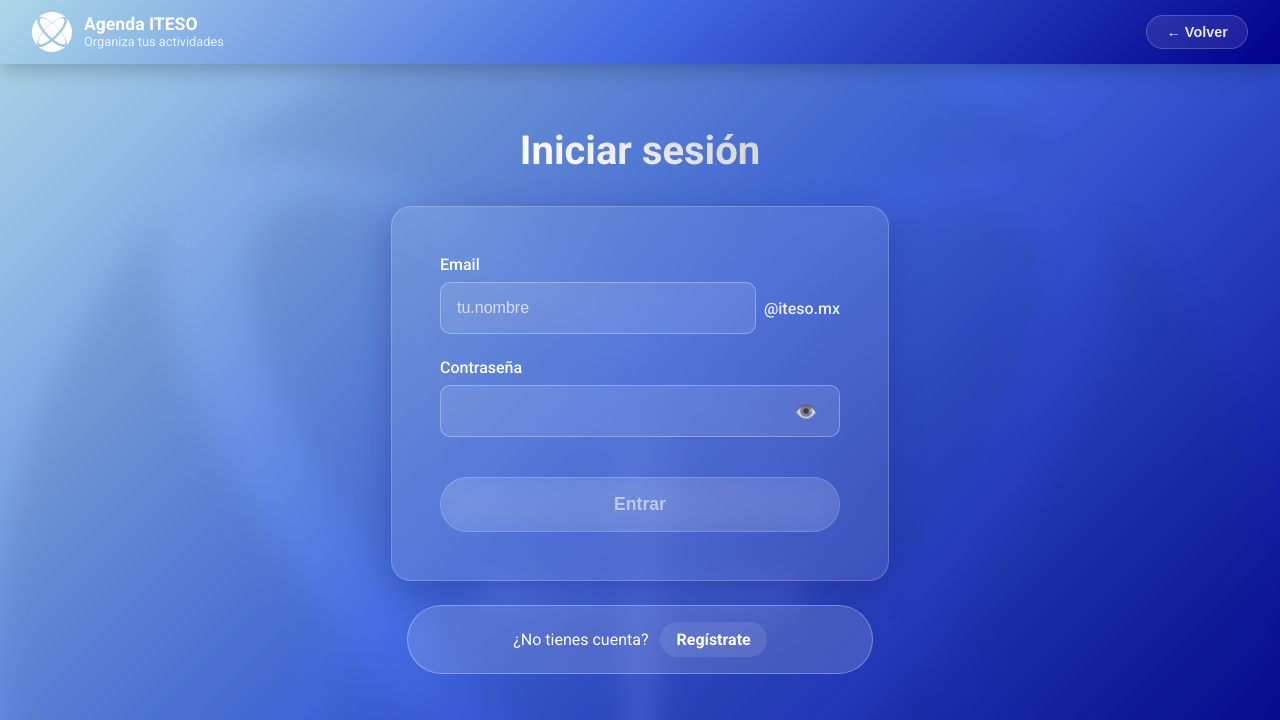
Login Component E2E Tests › debería validar campos requeridos al intentar enviar formulario vacío
Focus the field named "emailPrefix" at coordinates (598, 308), box x1=440 y1=282 x2=756 y2=334
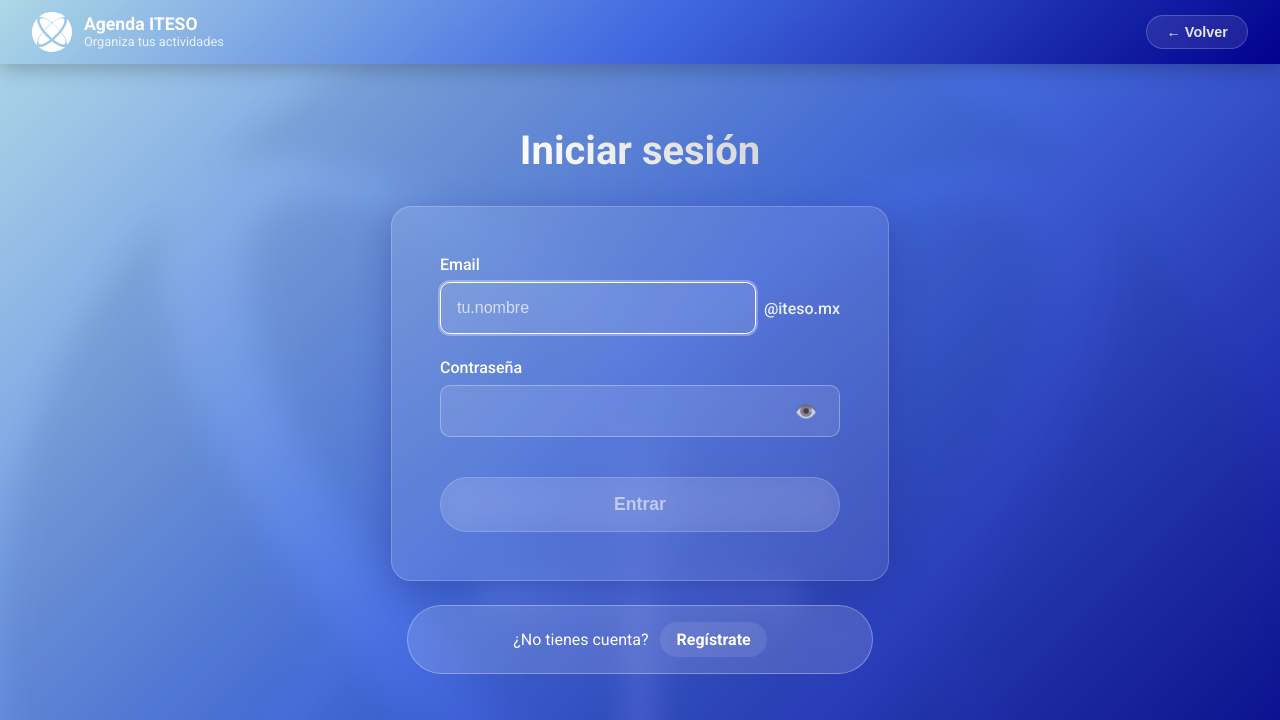
Leave the field named "emailPrefix", box x1=440 y1=282 x2=756 y2=334
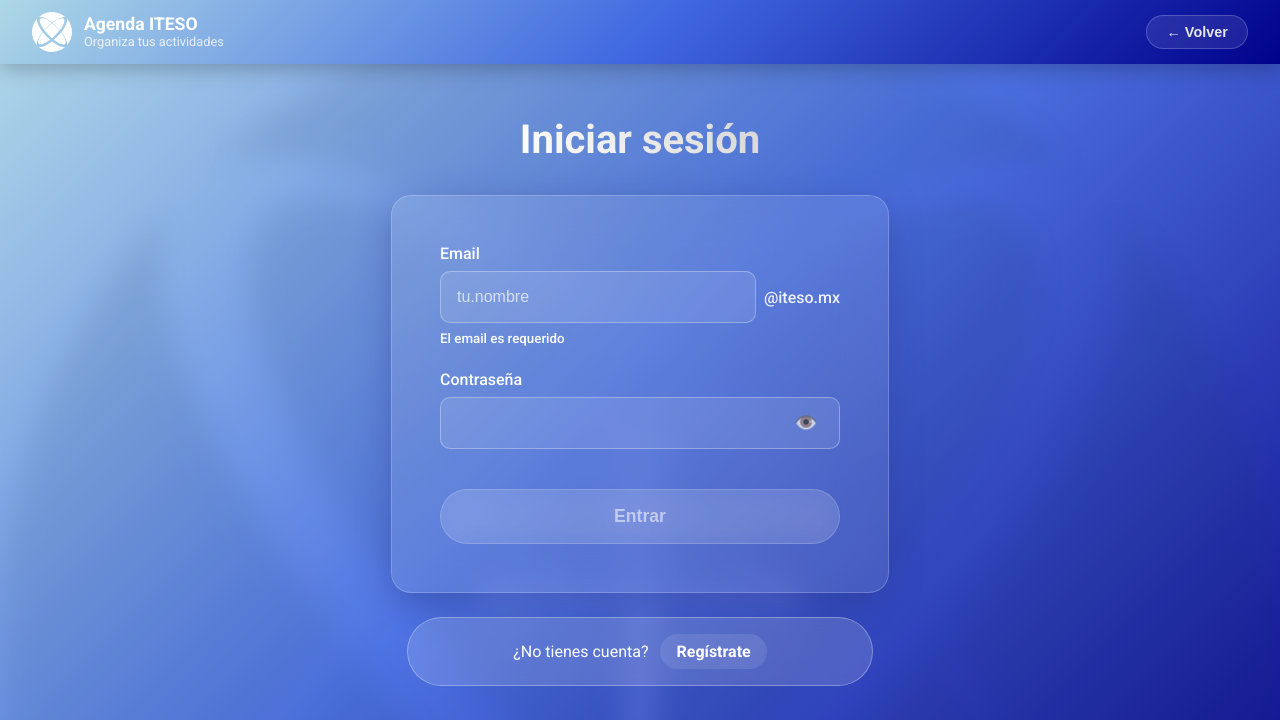
Focus the password field named "password" at coordinates (640, 423), box x1=440 y1=397 x2=840 y2=449
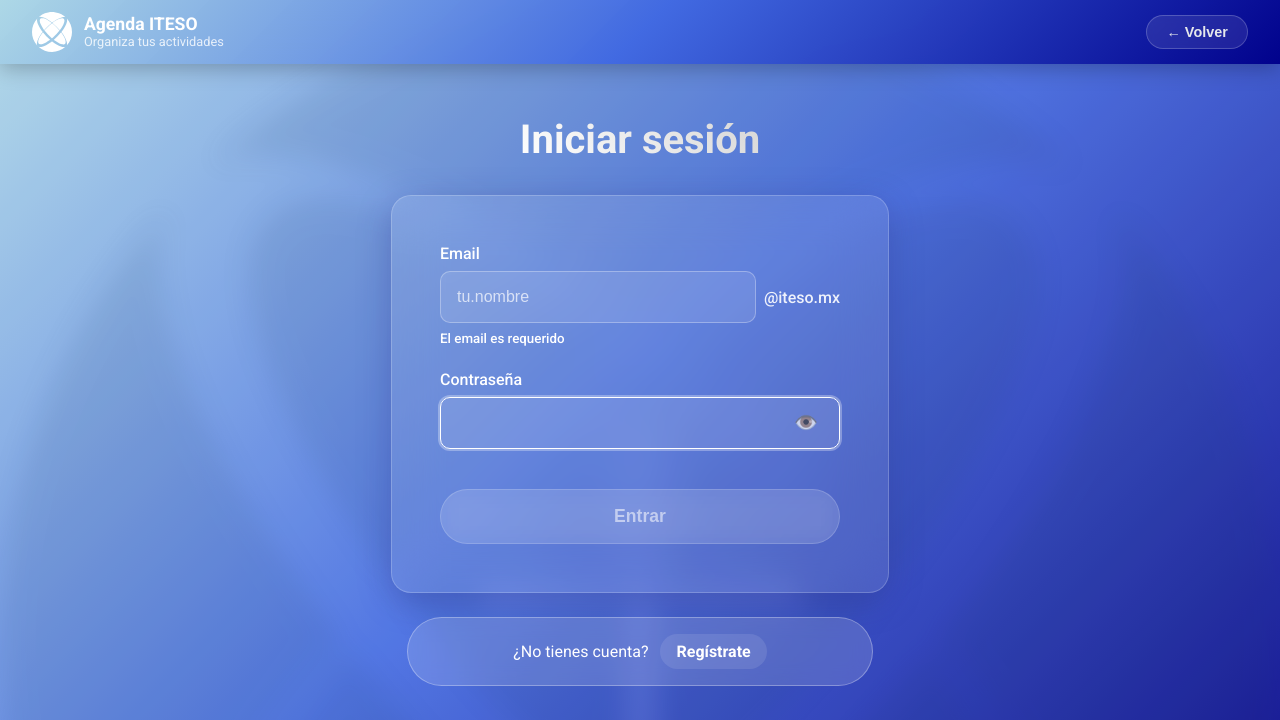
Leave the password field named "password", box x1=440 y1=397 x2=840 y2=449
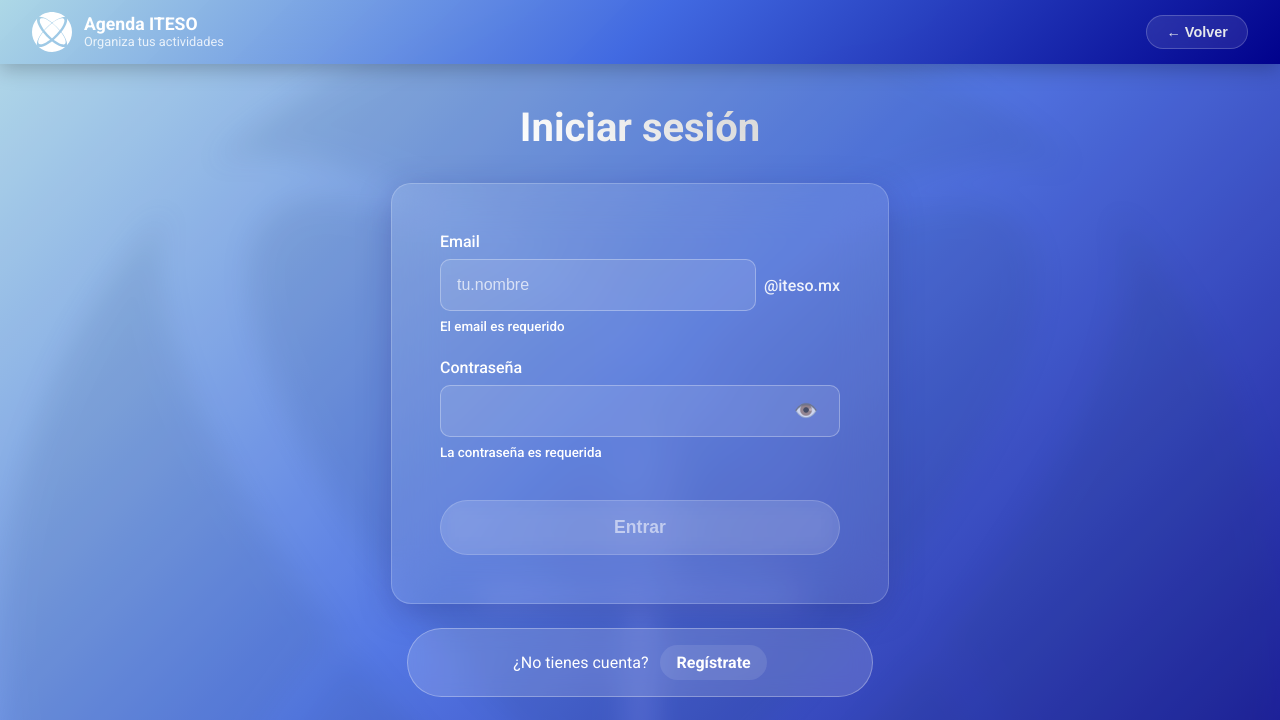
Expected: the submit button is disabled, x1=440 y1=500 x2=840 y2=555
Now the text "El email es requerido" is shown, box x1=440 y1=232 x2=840 y2=334
Now the text "La contraseña es requerida" is shown, box x1=440 y1=358 x2=840 y2=460
